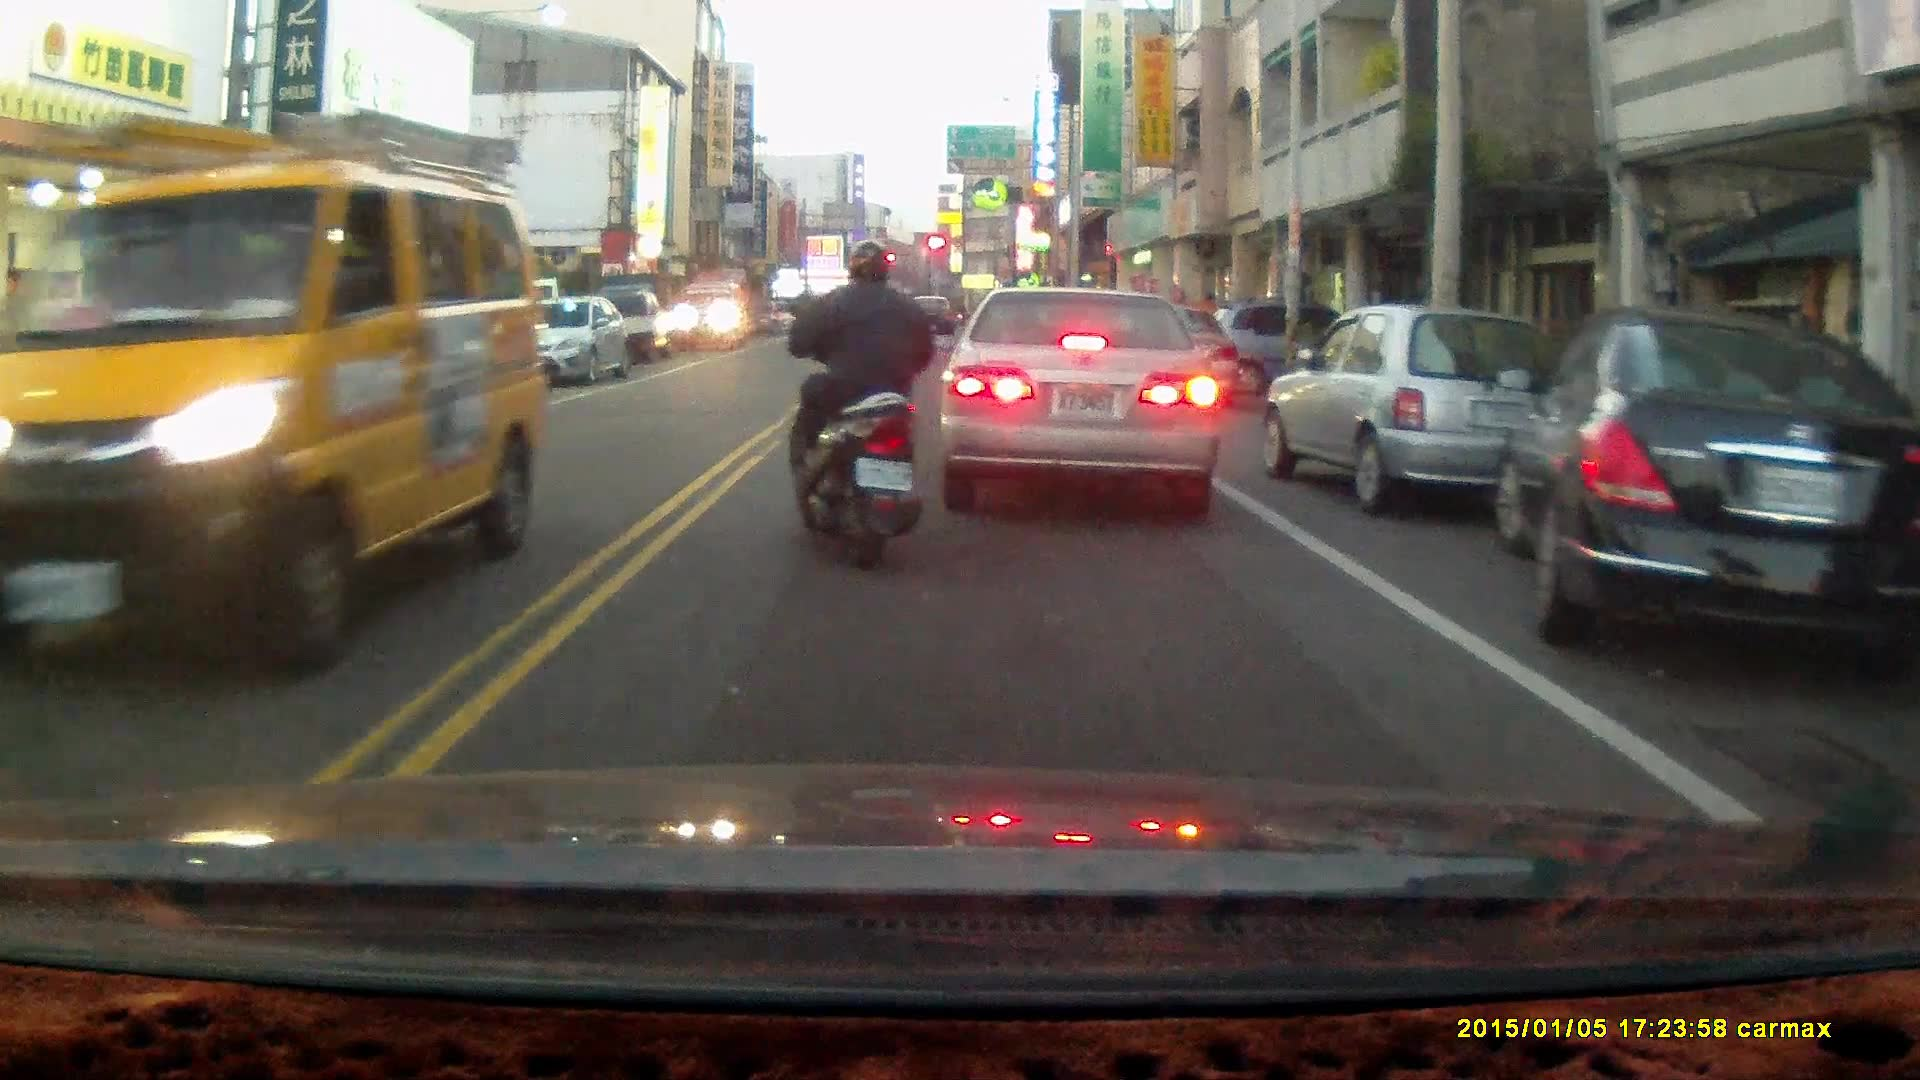rider: (786, 237, 936, 572)
vehicle: (20, 90, 551, 740), (1489, 304, 1920, 688), (937, 280, 1226, 509), (1257, 302, 1557, 517), (512, 293, 635, 385), (678, 271, 758, 341)
